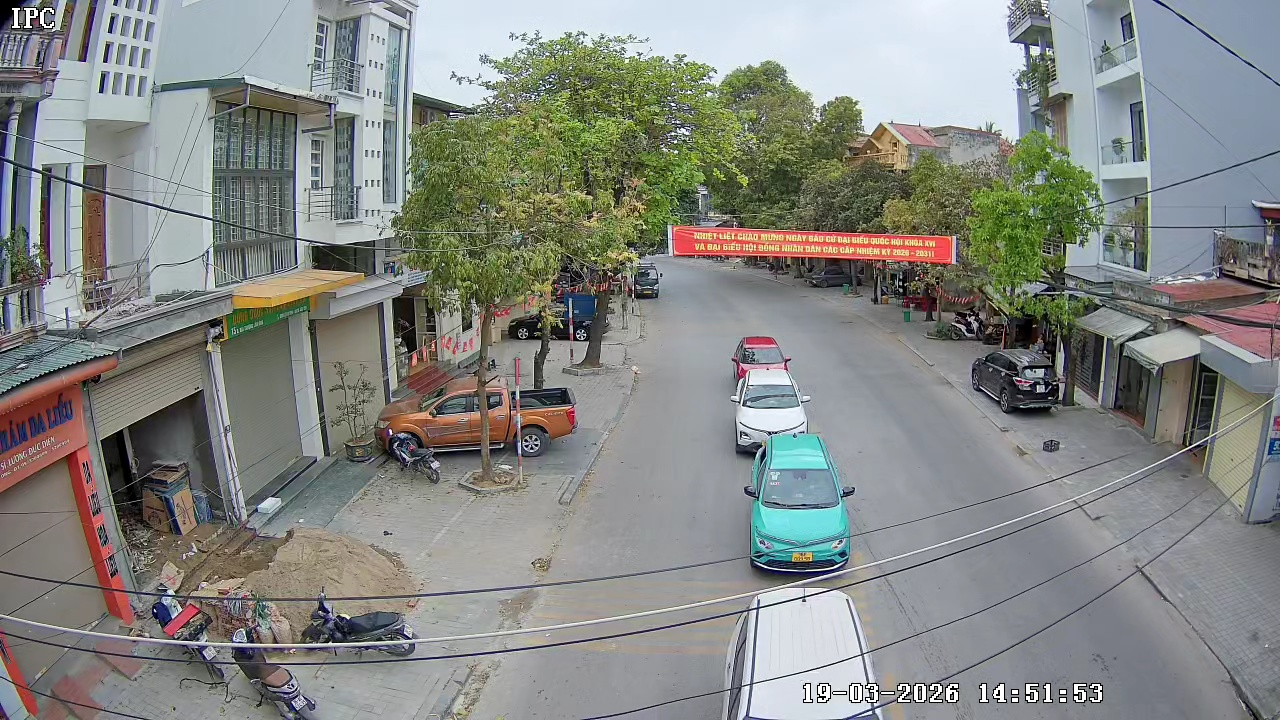car: (717, 582, 884, 719), (742, 431, 857, 573), (730, 368, 812, 457), (730, 333, 793, 385)
